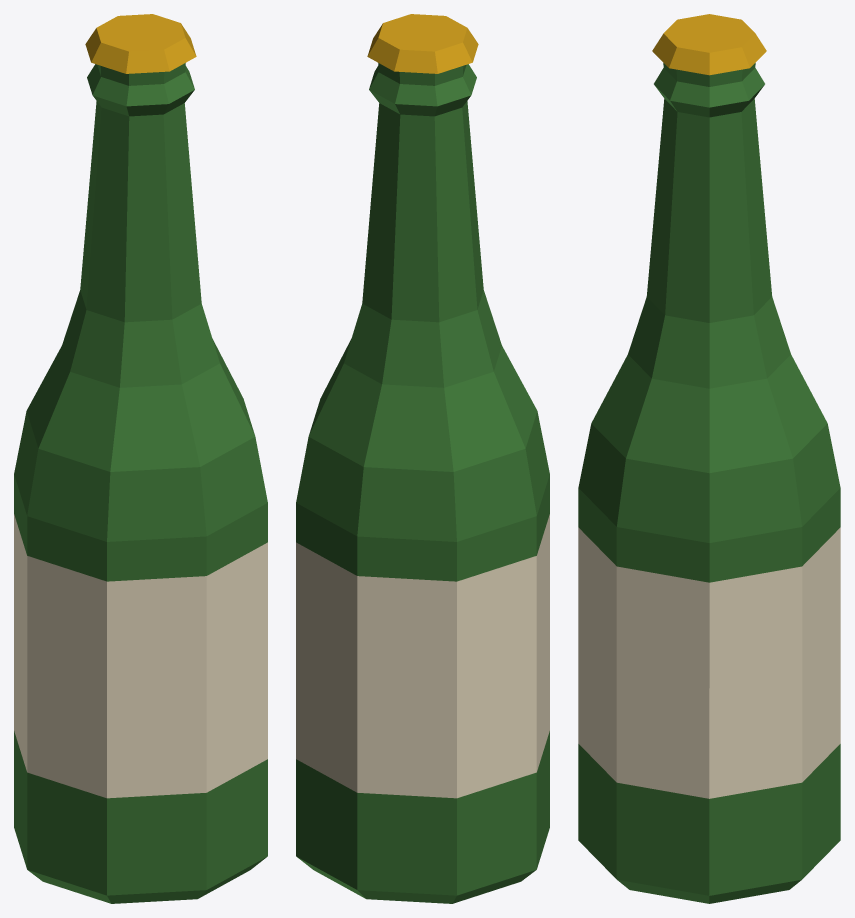
Rendered from prop-oil.glb.
The picture shows the model from 3 angles, left to right: view 1: azimuth 30°, elevation 25°; view 2: azimuth 150°, elevation 25°; view 3: azimuth 270°, elevation 25°; orthographic projection.
Visible parts, largest first — view 1: Bottle1; view 2: Bottle1; view 3: Bottle1.
Part boxes in pixels (x1,y1,x2,y2): Bottle1: (14,14,267,903); Bottle1: (296,14,549,903); Bottle1: (578,14,840,903).
Size of the model in its own units: 0.4517 by 1.56 by 0.4517.
